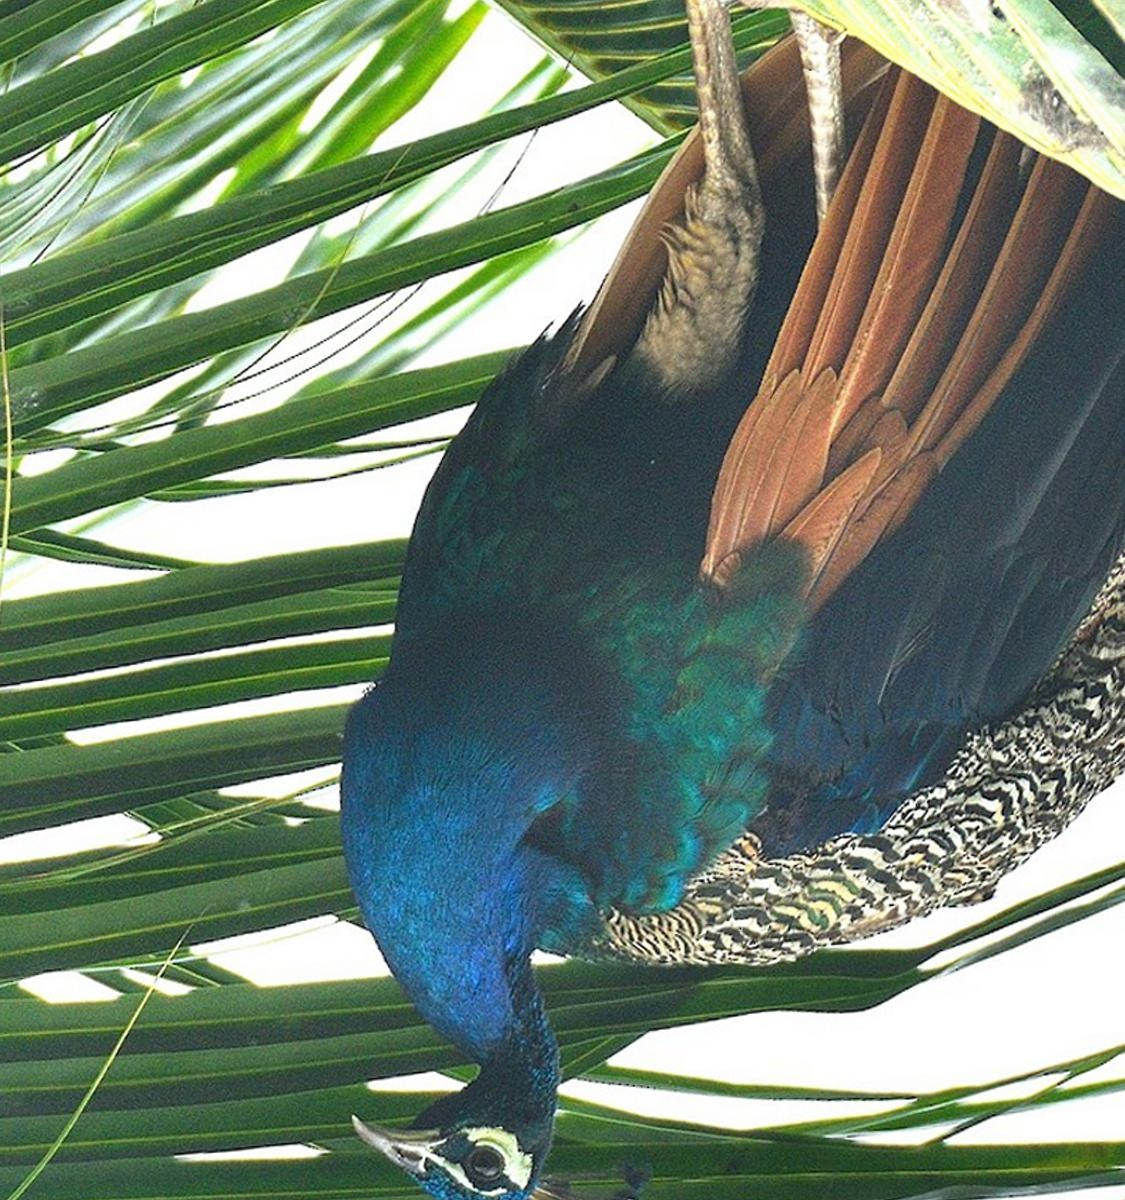peacock: (367, 80, 1062, 1190)
